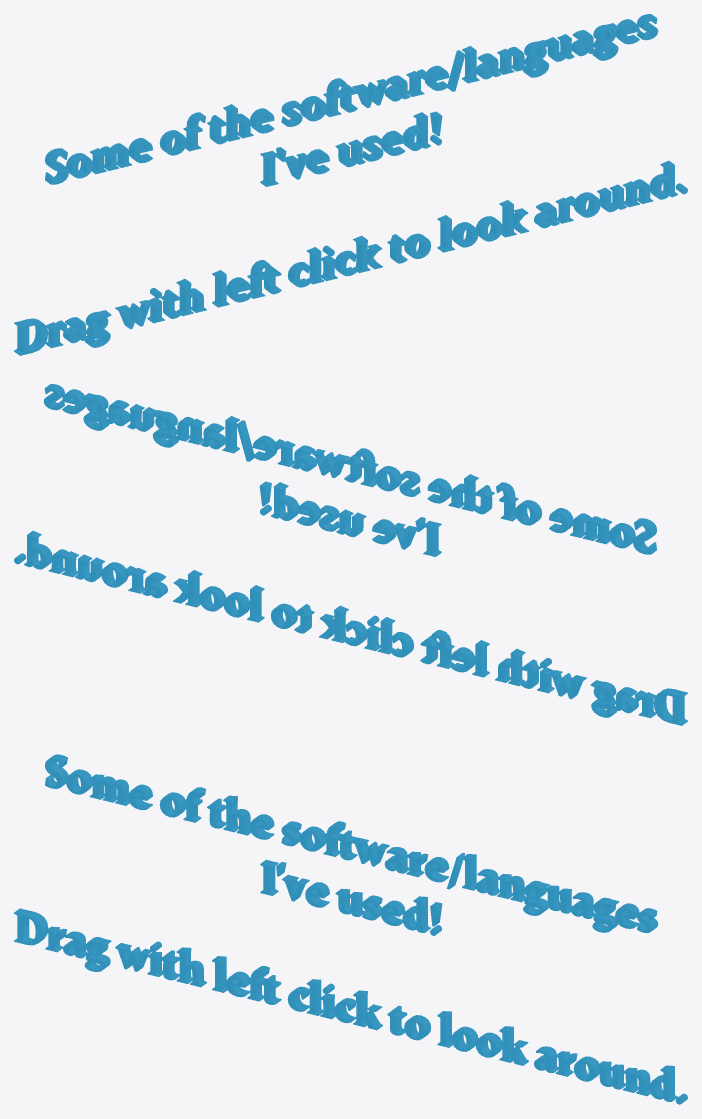
3 renders of one model, top to bottom at view 1: azimuth 30°, elevation 25°; view 2: azimuth 150°, elevation 25°; view 3: azimuth 330°, elevation 25°, orthographic.
Visible parts, largest first — view 1: Text; view 2: Text; view 3: Text.
Boxes of the visible parts, bbox=[...] form: Text: bbox=[14, 14, 687, 355]; Text: bbox=[14, 384, 687, 725]; Text: bbox=[14, 754, 687, 1104].
Size of the model in its own units: 25.71 by 7.54 by 0.4.
